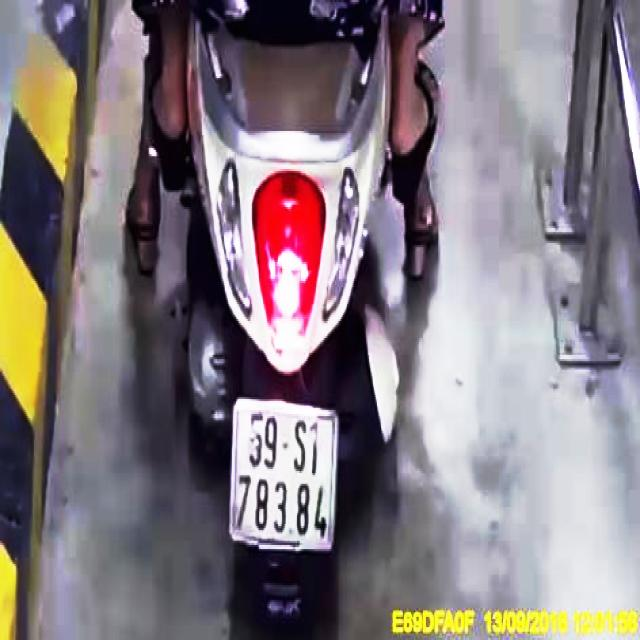license_plate: (232, 405, 342, 554)
